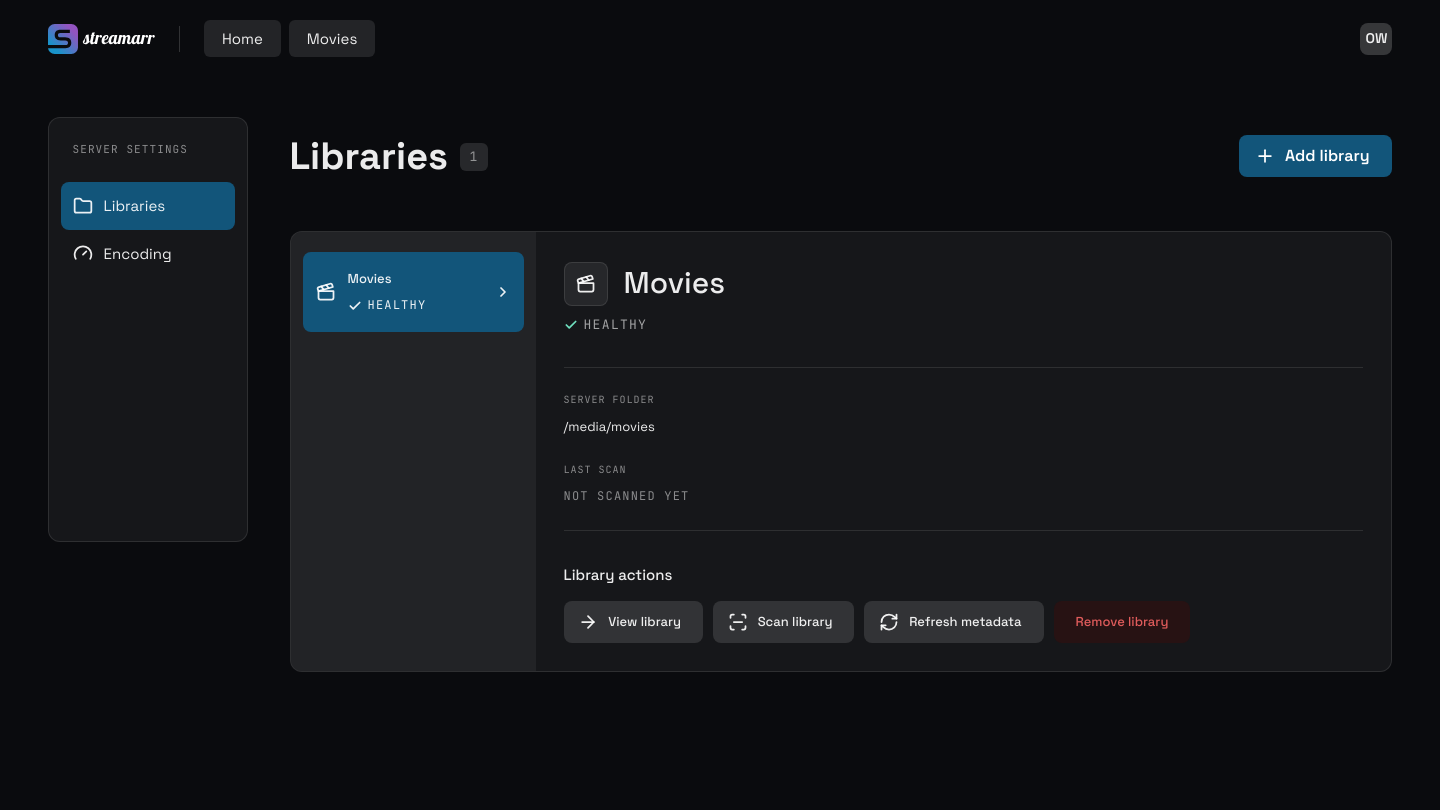
Test: library administration › shouldShowTheAddedLibraryAsScanningFromItsPayloadBeforeAnyInventoryRead
Expected: the element named "Movies settings" is shown, [536,232,1392,671]
Click the link "Add library" at (1316,156), box [1239,135,1392,177]
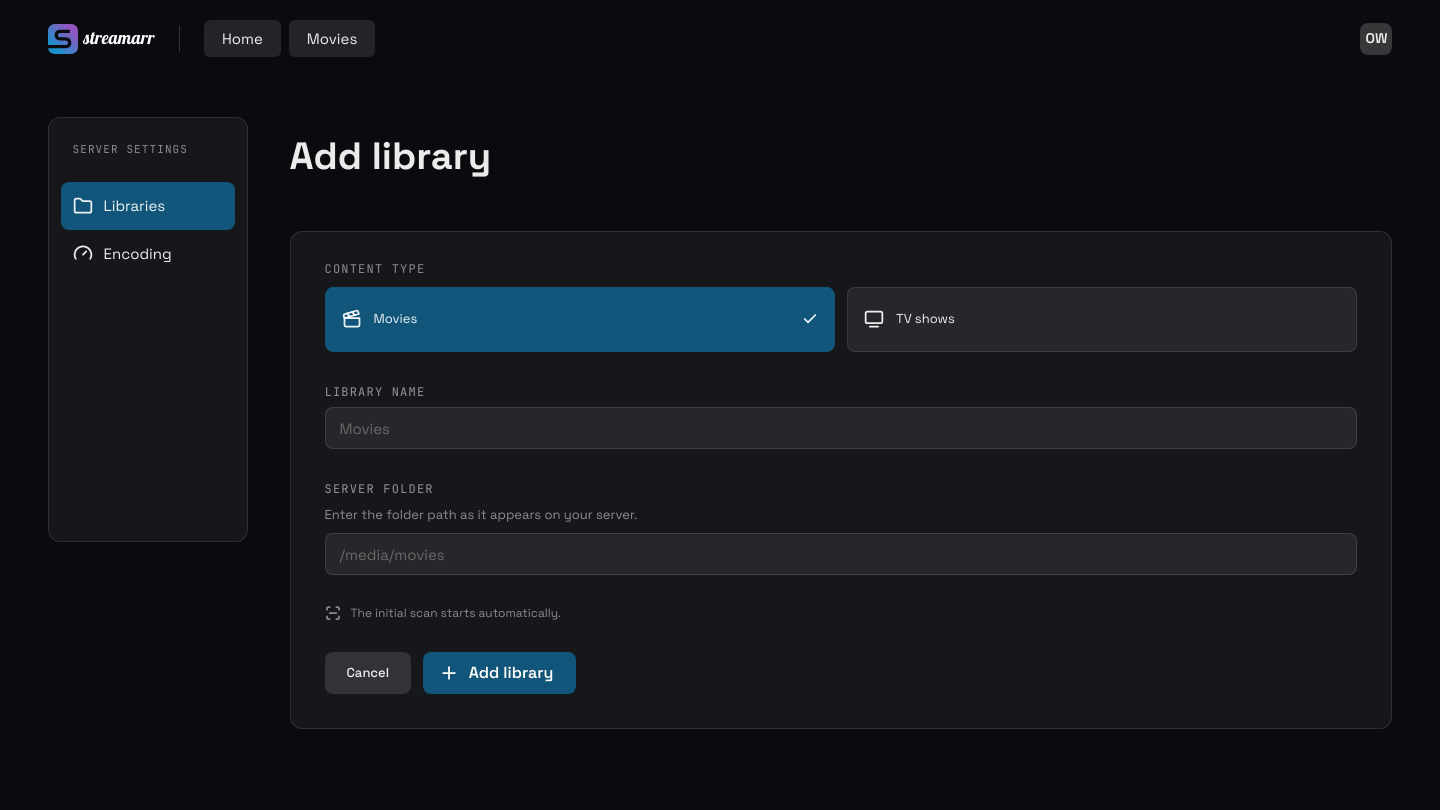
Type "Family" into the field labelled "Library name" at (841,428), box [324,407,1358,449]
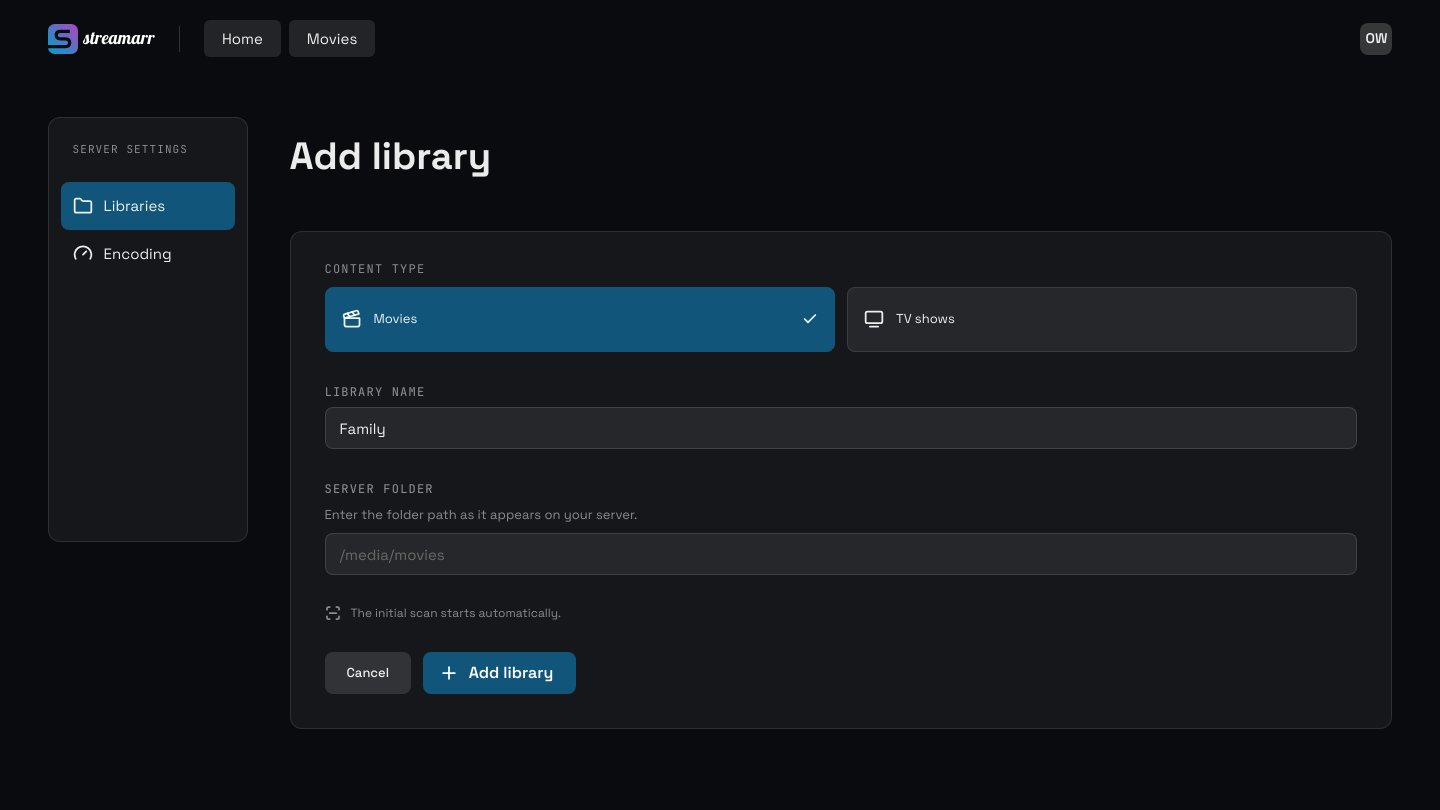
Type "/media/family" into the field labelled "Server folder" at (841,554), box [324,533,1358,575]
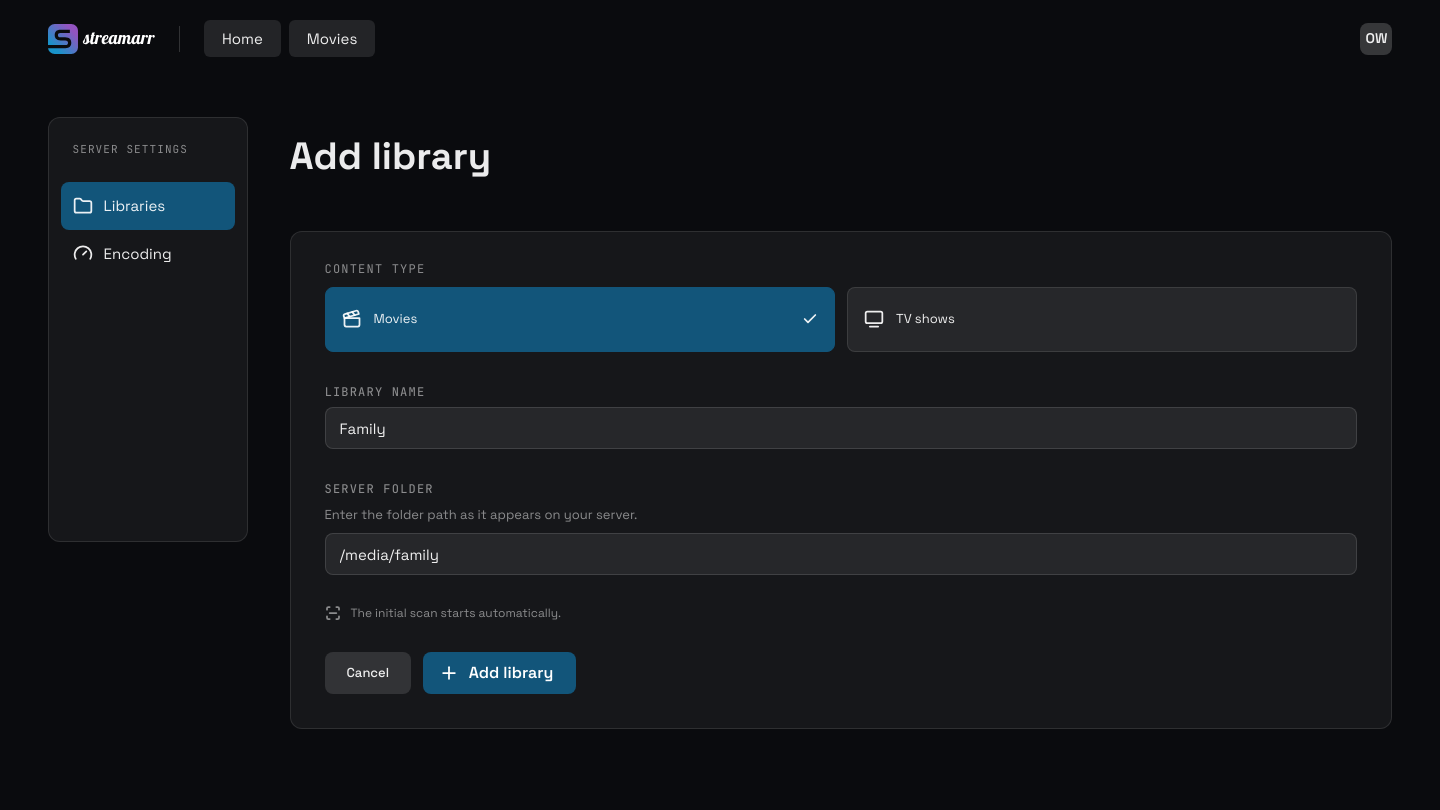
Click the button "Add library" at (500,673), box [423,652,576,694]
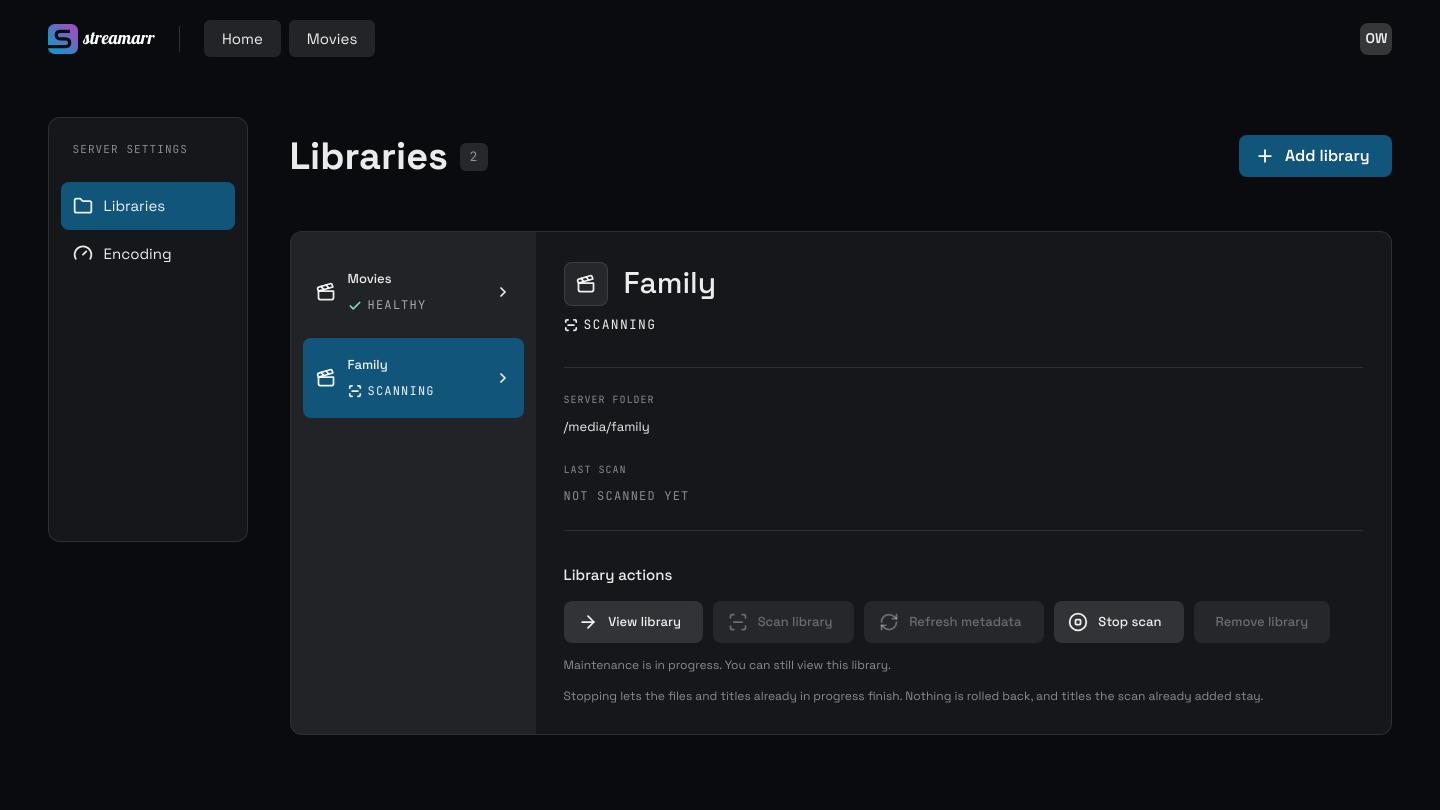
Expected: the element named "Family settings" shows "SCANNING", [584,316,656,333]
Expected: the button "Scan library" is disabled, [713,601,854,643]
